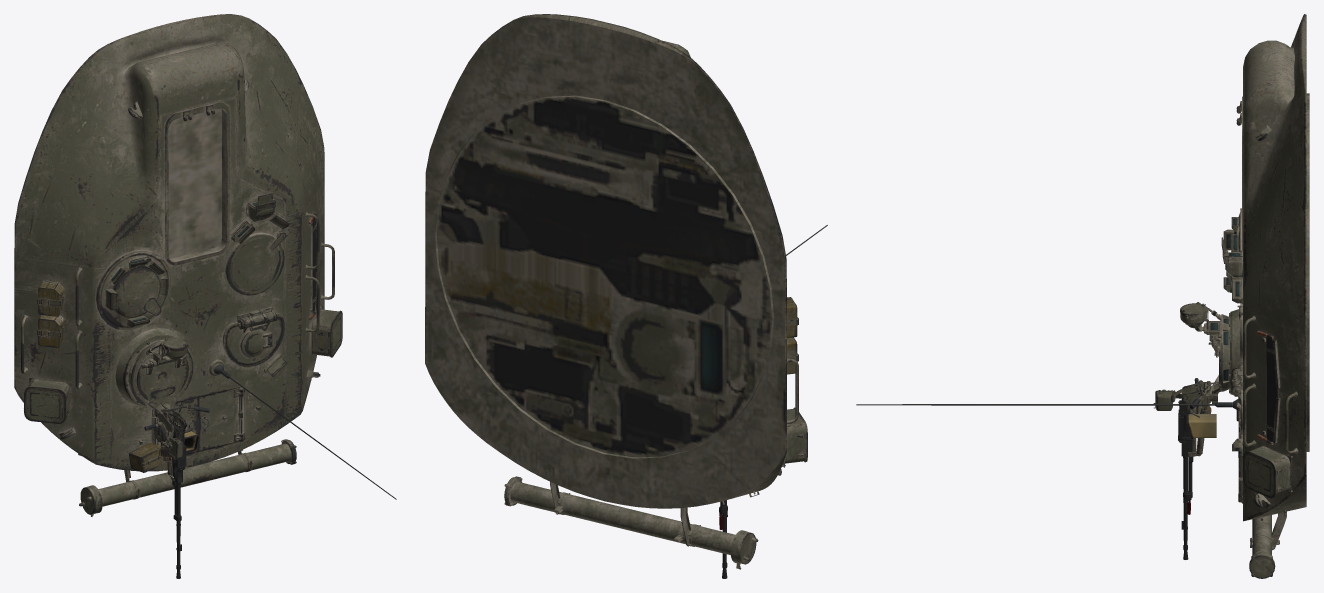
File: Turret_01.glb
The picture shows the model from 3 angles, left to right: view 1: azimuth 30°, elevation 25°; view 2: azimuth 150°, elevation 25°; view 3: azimuth 270°, elevation 25°; orthographic projection. The views are drawn at different scales.
Parts seen in each view (by area): view 1: set_0_group_0; view 2: set_0_group_0; view 3: set_0_group_0.
Part boxes in pixels (bbox=[...]): set_0_group_0: bbox=[14, 14, 396, 578]; set_0_group_0: bbox=[425, 14, 827, 578]; set_0_group_0: bbox=[856, 14, 1309, 578].
Bounding box in the file's own units: 3.45 × 5.21 × 3.94.
Materials: 1 (1 with a texture image).
